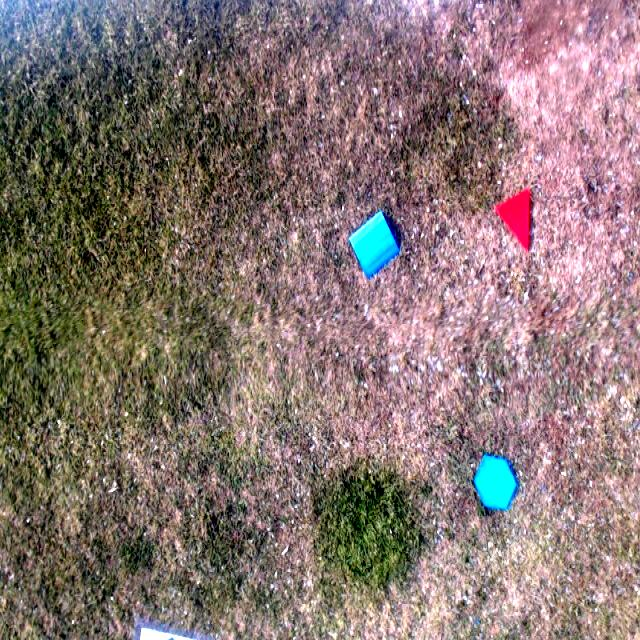blue_hexagon: (474, 454, 517, 510)
blue_square: (349, 210, 400, 278)
red_triangle: (496, 188, 530, 251)
